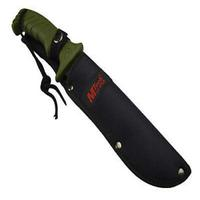knife: (10, 7, 192, 184)
